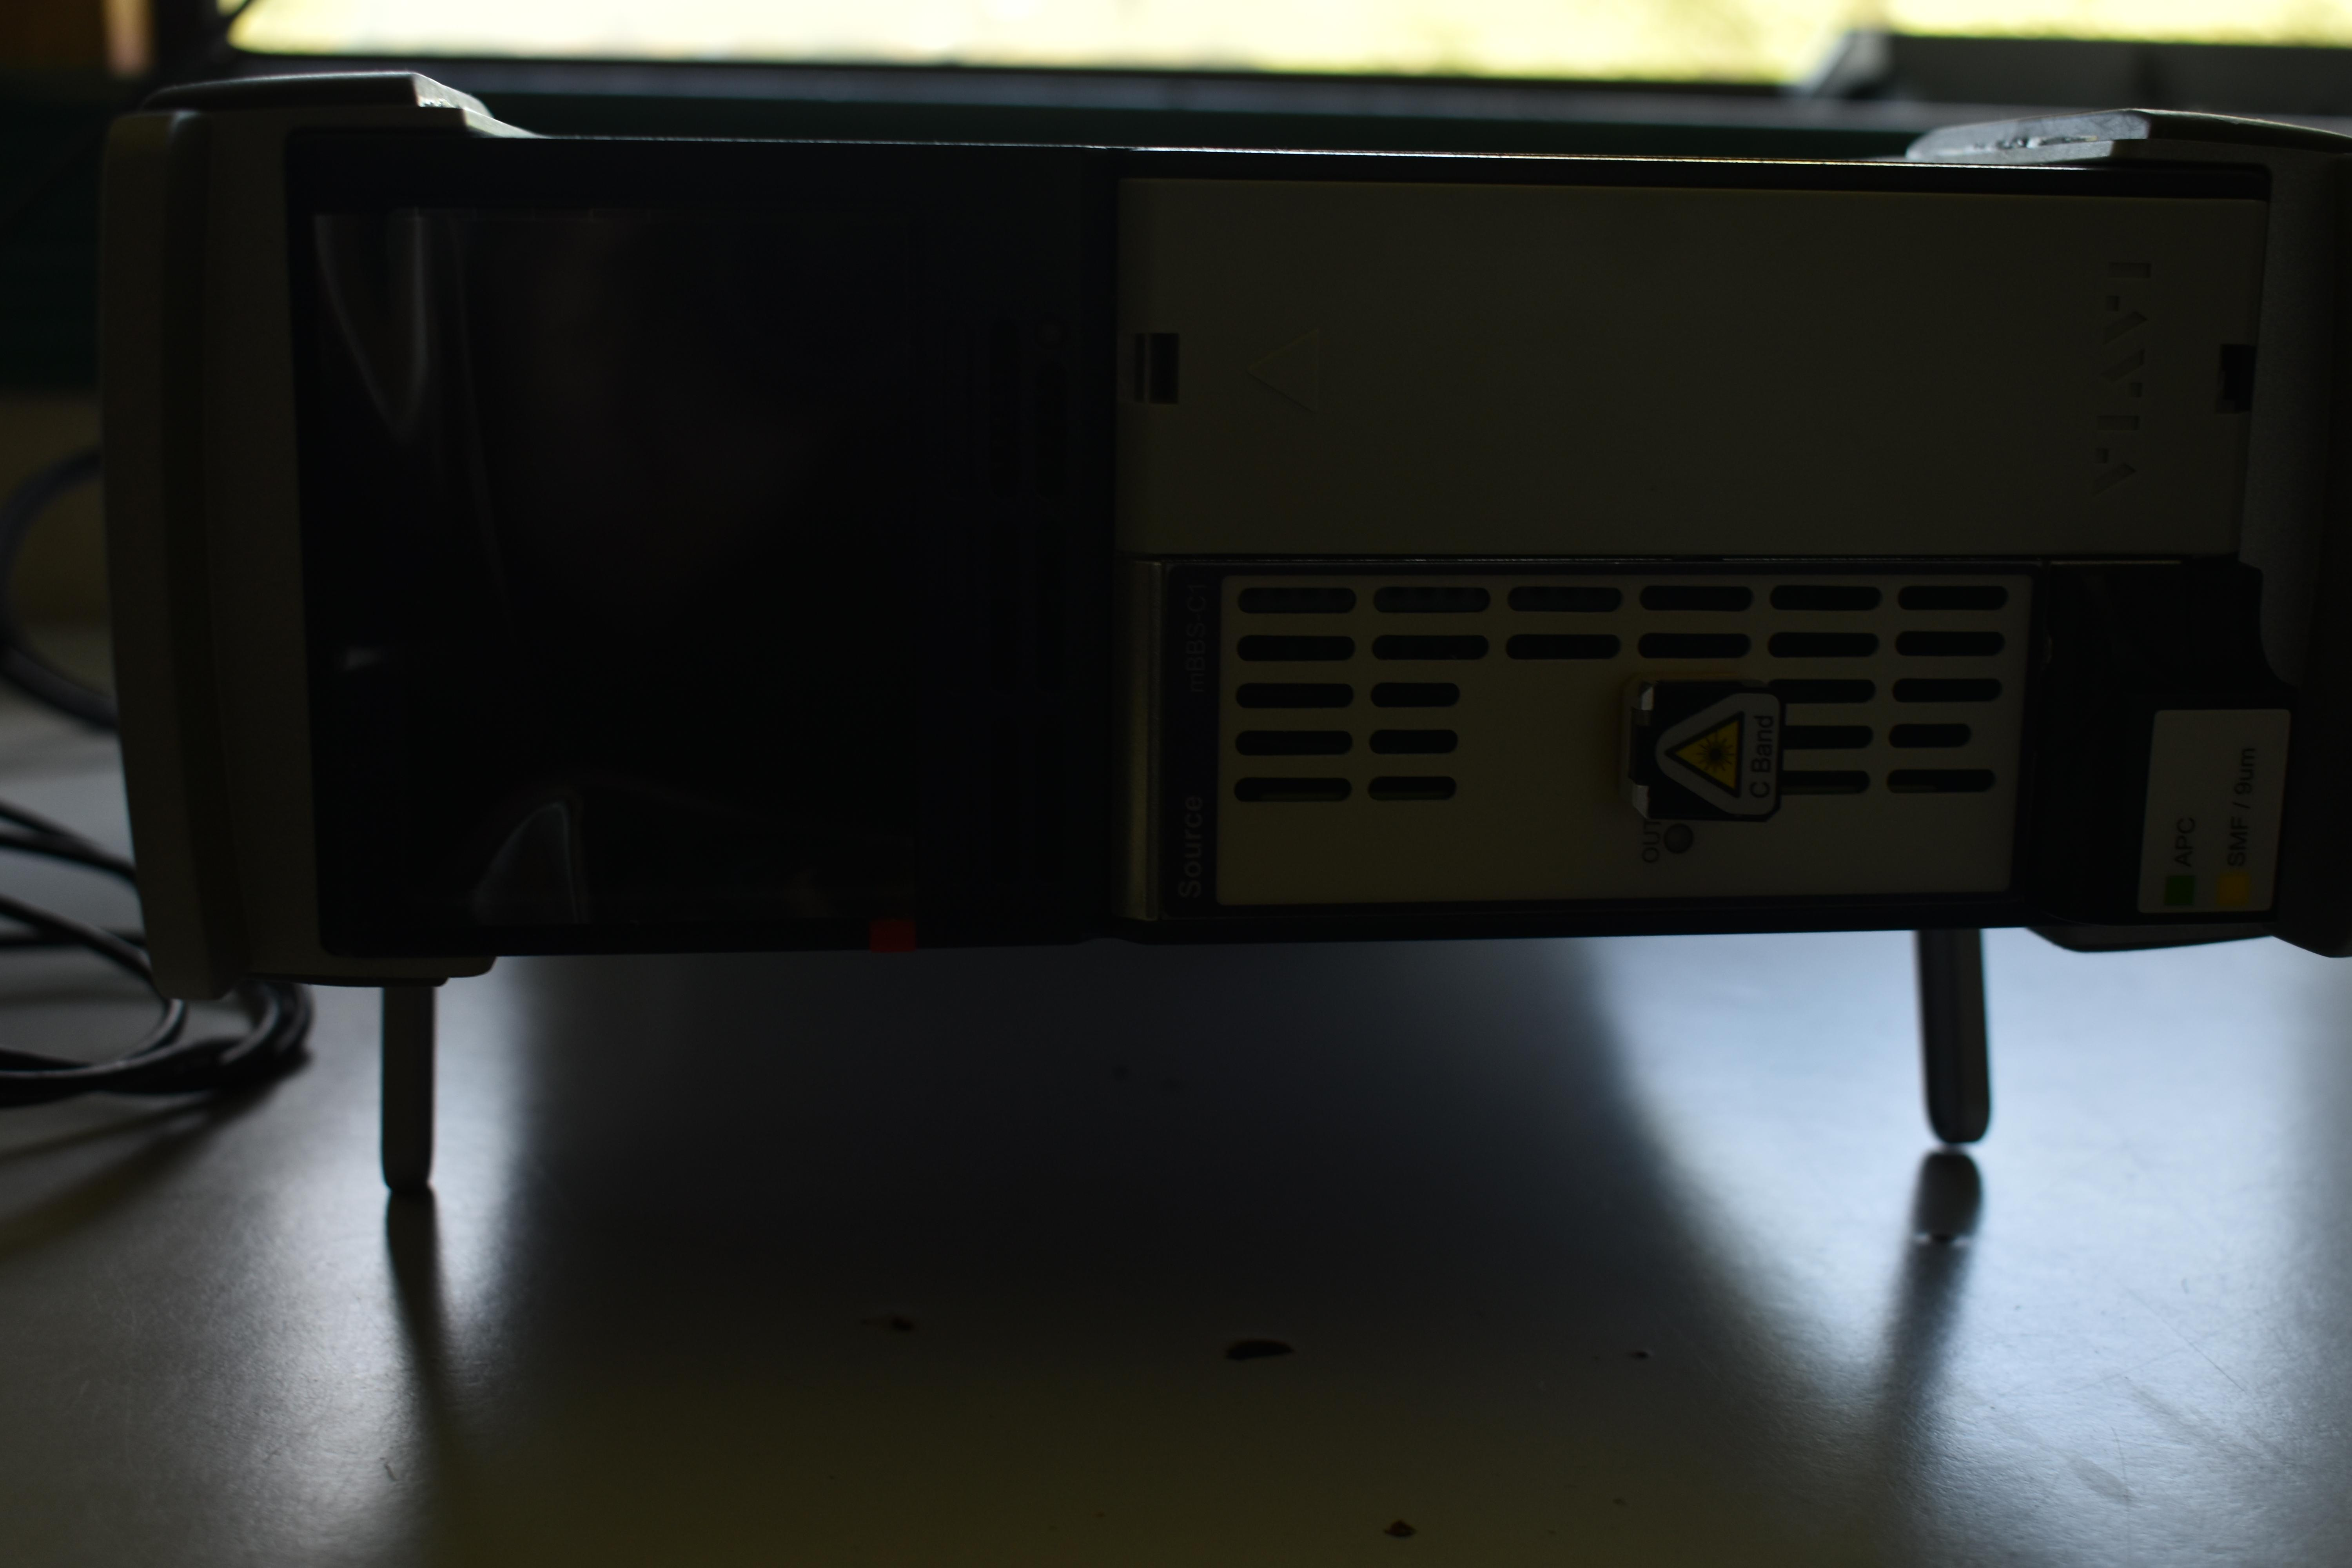powermeter: (94, 65, 2348, 1203)
